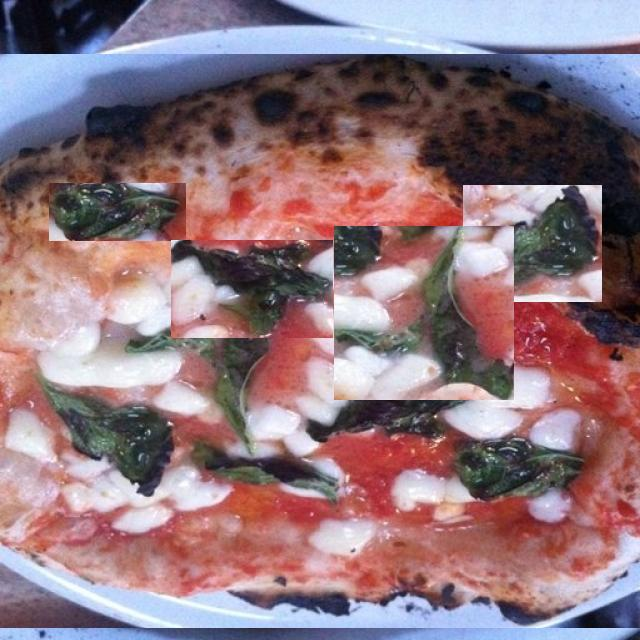basil: (334, 226, 514, 400), (463, 185, 602, 302), (171, 240, 333, 338), (299, 175, 447, 241), (49, 183, 186, 241)
pizza: (0, 54, 640, 628)
